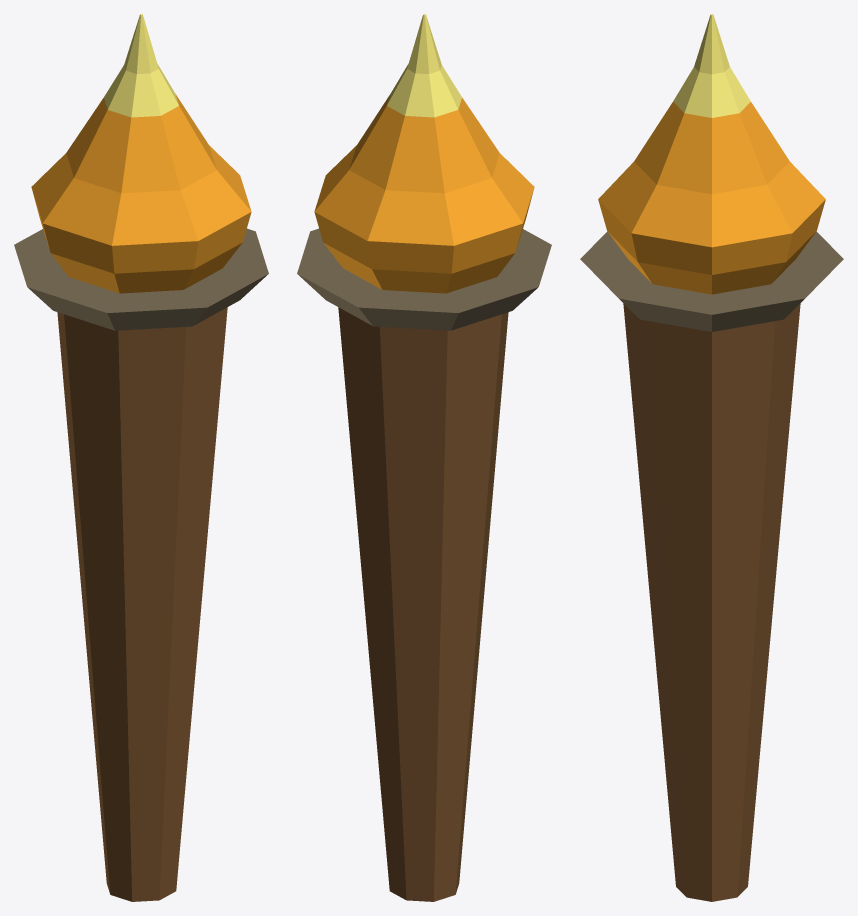
File: Torch.fbx
The picture shows the model from 3 angles, left to right: view 1: azimuth 30°, elevation 25°; view 2: azimuth 150°, elevation 25°; view 3: azimuth 270°, elevation 25°; orthographic projection.
Parts seen in each view (by area): view 1: Torch_Handle, Torch_FlameBase, Torch_Cup, Torch_FlameTip; view 2: Torch_Handle, Torch_FlameBase, Torch_Cup, Torch_FlameTip; view 3: Torch_Handle, Torch_FlameBase, Torch_Cup, Torch_FlameTip.
Boxes of the visible parts, box(x1,y1,x2,y2) form: Torch_Handle: box(57, 307, 227, 901); Torch_FlameBase: box(31, 94, 251, 293); Torch_Cup: box(14, 228, 268, 330); Torch_FlameTip: box(104, 14, 178, 117); Torch_Handle: box(338, 307, 508, 901); Torch_FlameBase: box(314, 94, 534, 293); Torch_Cup: box(297, 228, 551, 330); Torch_FlameTip: box(387, 14, 461, 117); Torch_Handle: box(623, 303, 800, 901); Torch_FlameBase: box(598, 102, 825, 294); Torch_Cup: box(580, 231, 843, 331); Torch_FlameTip: box(673, 14, 750, 117).
Bounding box in the file's own units: 88 × 321 × 88.
